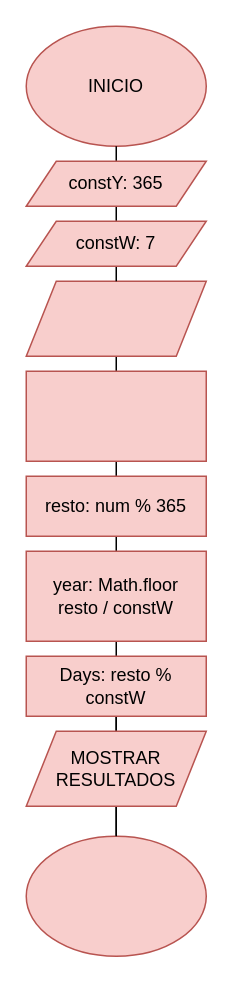
Some shapes in this 233 by 984 pixel diagram are drawn without their labels. Here are the shapes that lost their labels. From the top down, the box of each, then its label:
(25, 280, 206, 356): INGRESE CANT DIAS
(25, 370, 206, 461): year: Math.floor num / constY
(25, 835, 206, 956): FIN
